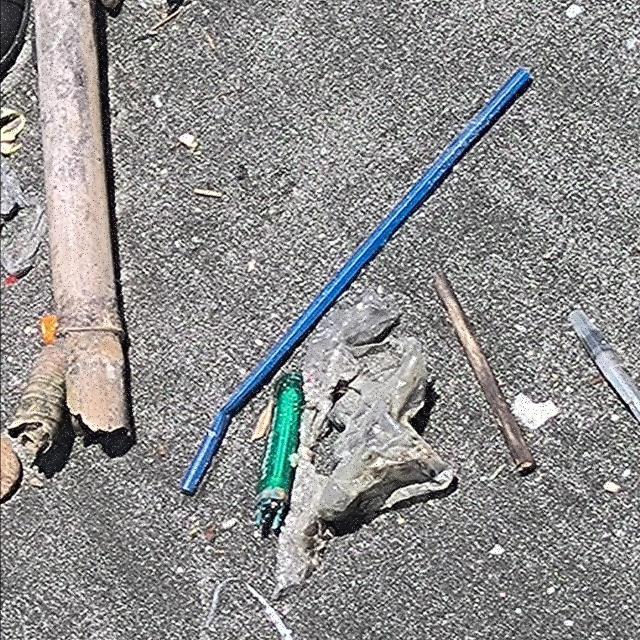plastic_waste: (181, 68, 538, 494)
wood_waste: (32, 1, 135, 440)
